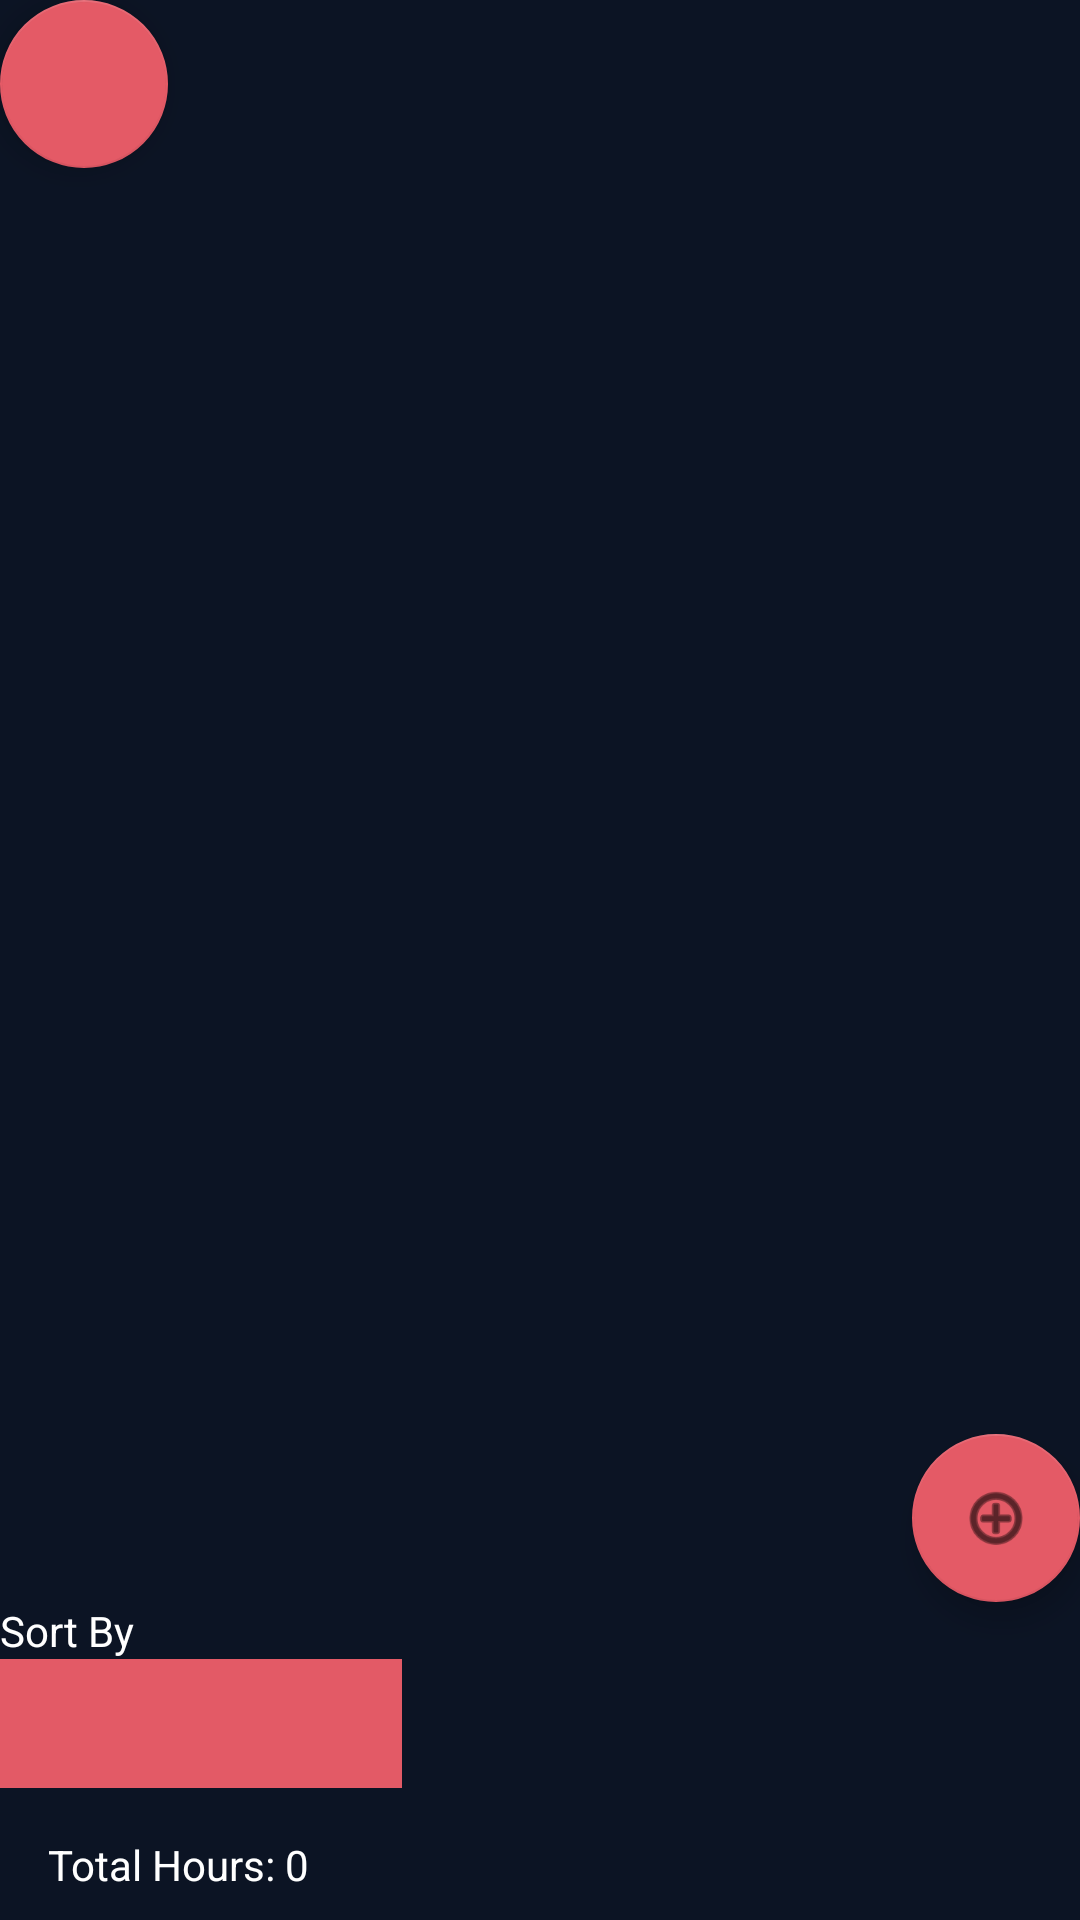

Screen size 1080w x 1920h. Icon name, then its box in pixels as [left=x1, top=y1, right=x2, bottom=y2]:
add: [left=912, top=1434, right=1080, bottom=1602]
